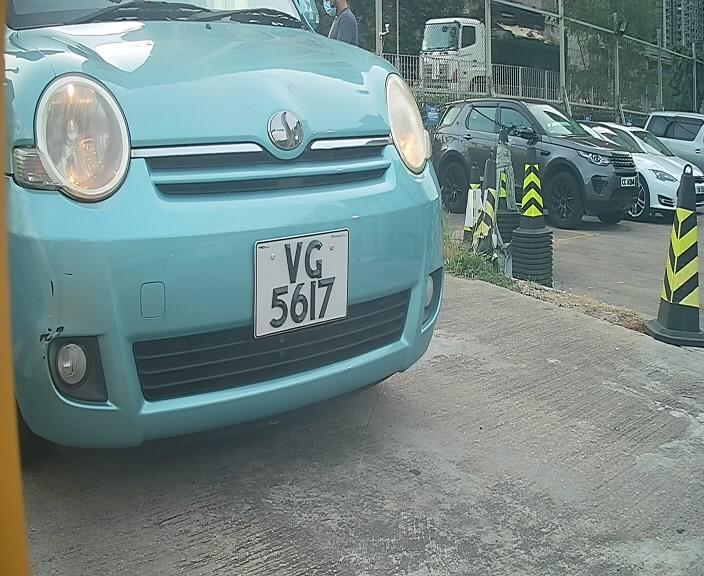privatecar: (13, 11, 472, 451)
